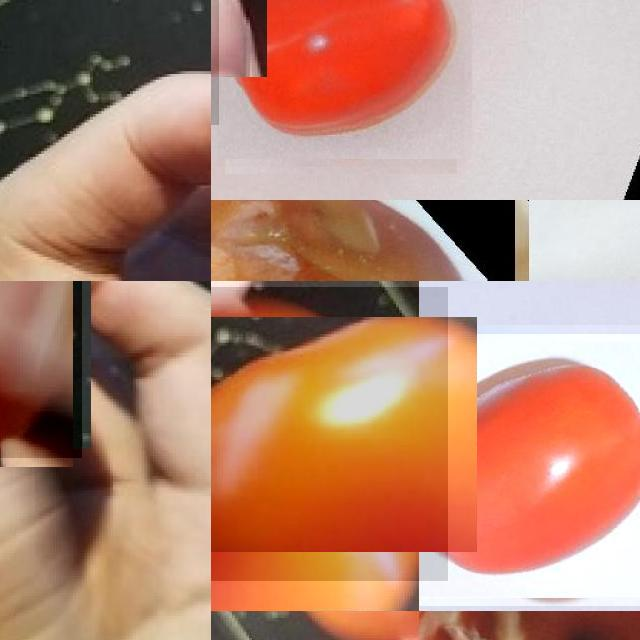Fresh Tomato: (211, 287, 448, 581), (419, 333, 640, 606), (217, 0, 465, 167), (211, 611, 419, 640)
Rotten Tomato: (211, 200, 522, 281)
